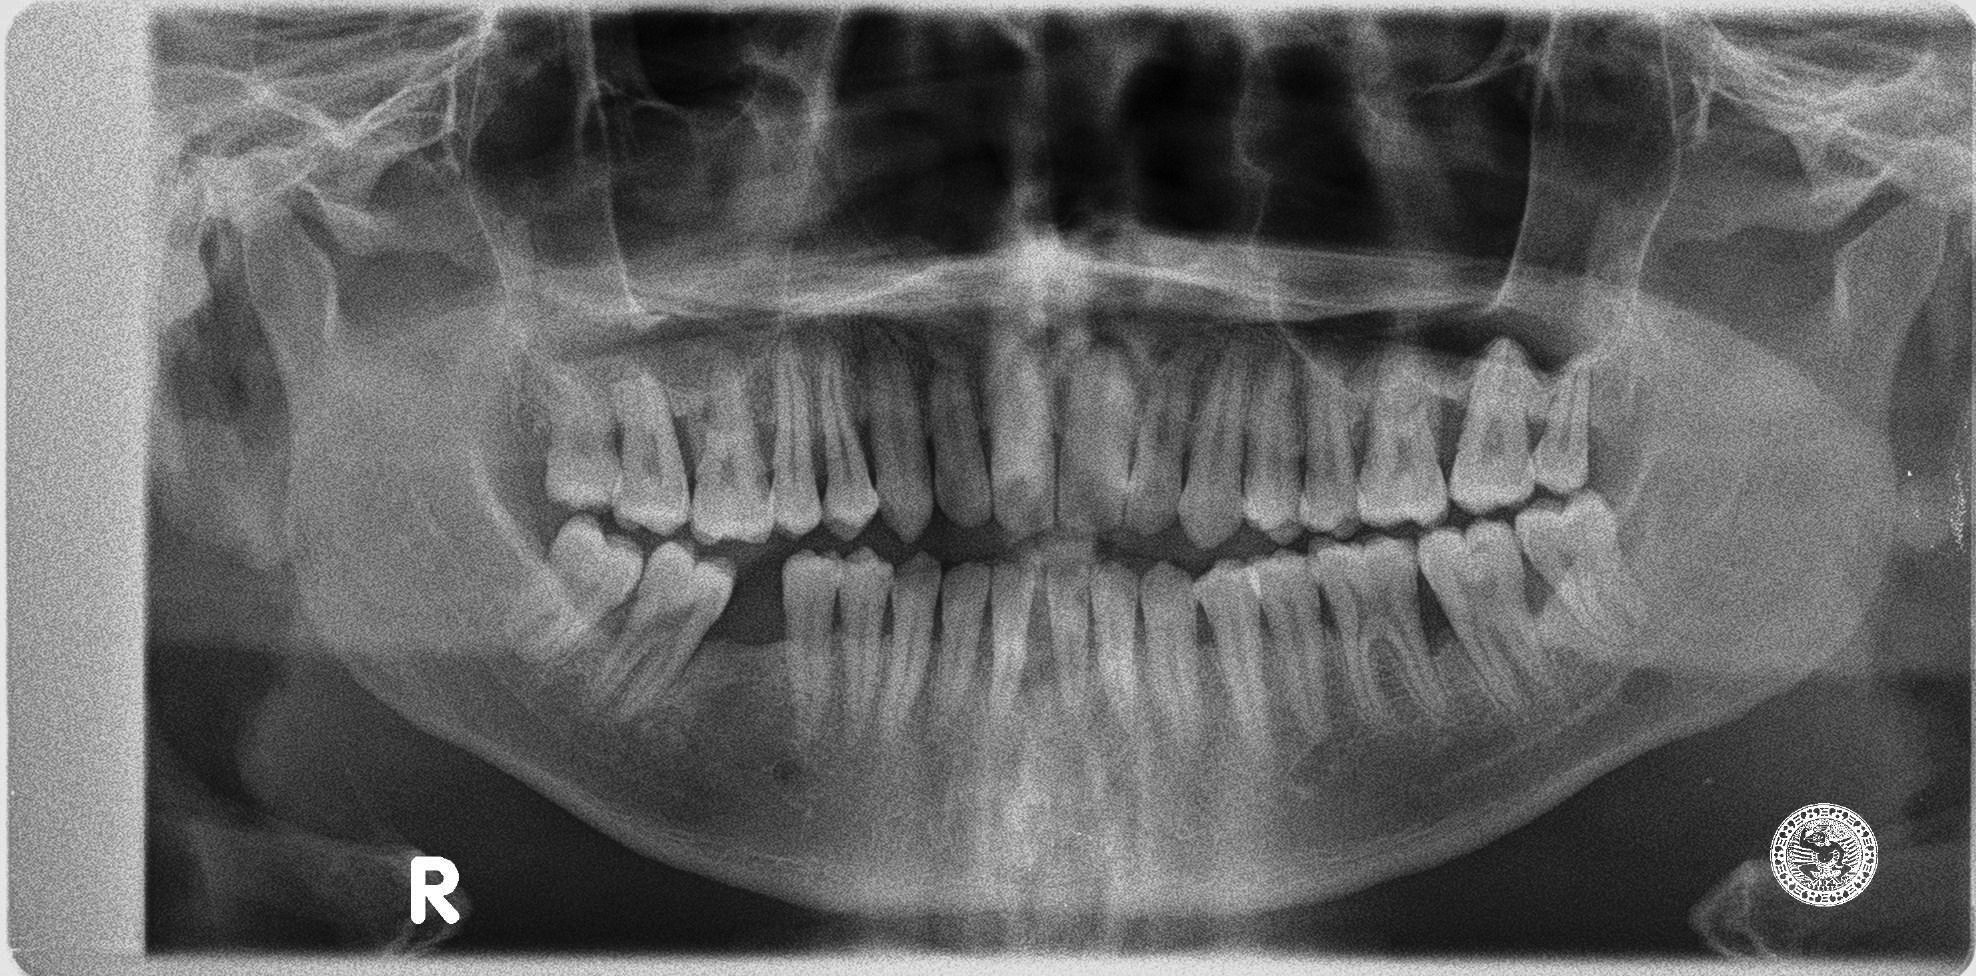Individual Tooth: (1416, 518, 1568, 720), (1301, 536, 1449, 738), (575, 538, 738, 720), (500, 513, 646, 665), (1519, 492, 1646, 643), (675, 368, 775, 543), (1243, 554, 1332, 744), (1177, 339, 1254, 549), (1358, 346, 1447, 526), (1057, 343, 1138, 536), (1449, 338, 1534, 514), (1193, 560, 1270, 753), (984, 329, 1055, 537), (1125, 344, 1193, 535), (868, 340, 933, 541), (612, 372, 689, 535), (880, 552, 941, 743), (1243, 346, 1302, 543), (783, 550, 841, 749), (818, 351, 878, 540), (544, 366, 619, 509), (1299, 359, 1358, 538), (839, 549, 892, 743), (930, 369, 993, 526), (1143, 562, 1195, 744), (771, 344, 820, 533), (938, 564, 989, 724), (1532, 356, 1590, 494), (1093, 562, 1137, 741), (1046, 562, 1091, 710), (991, 564, 1031, 707)
